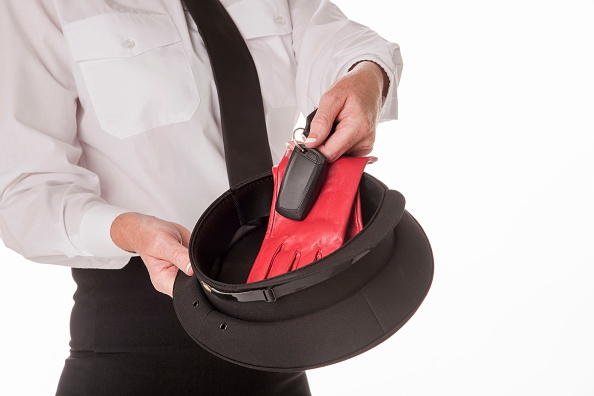em pe: (0, 0, 434, 319)
